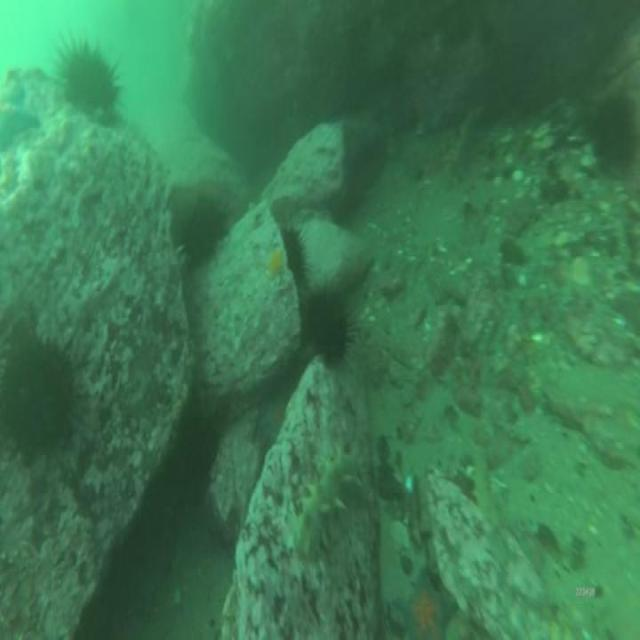echinus: (6, 343, 75, 450), (57, 48, 122, 116), (591, 94, 640, 175), (303, 291, 350, 357), (182, 198, 228, 258), (285, 224, 305, 276)
holothurian: (294, 450, 361, 564), (471, 449, 501, 529)
starfish: (398, 572, 452, 640), (266, 250, 284, 275)
